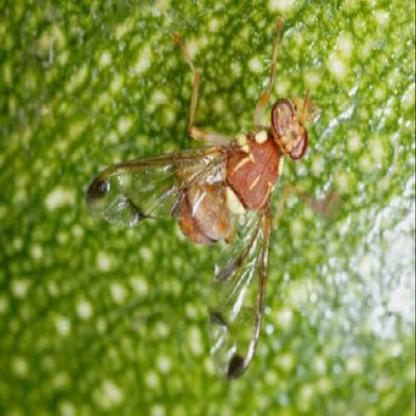fruit fly: (84, 26, 318, 357)
